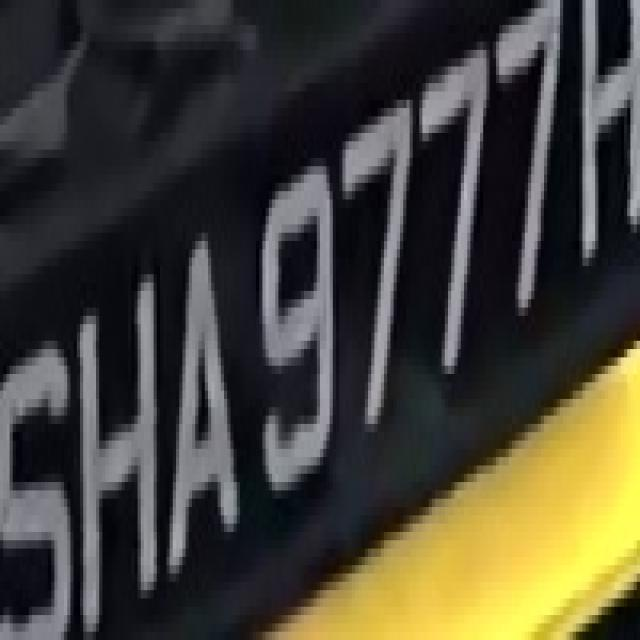7: (403, 50, 490, 407), (333, 100, 416, 457), (480, 25, 566, 316)
9: (253, 133, 342, 515)
A: (153, 191, 250, 599)
H: (74, 249, 160, 632), (573, 17, 640, 266)
S: (7, 332, 86, 632)
